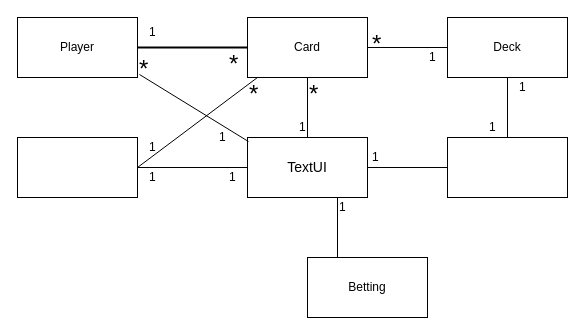
Image size: 585x335. Some labels were removed from this diagram. Here are the shapes that lost their labels. From the top down, the centre of each, then its label:
the point at 77,167: Casino
the point at 507,167: Dealer
